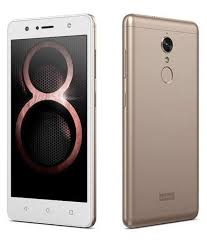lenovo: (4, 11, 98, 230), (119, 13, 201, 228)
